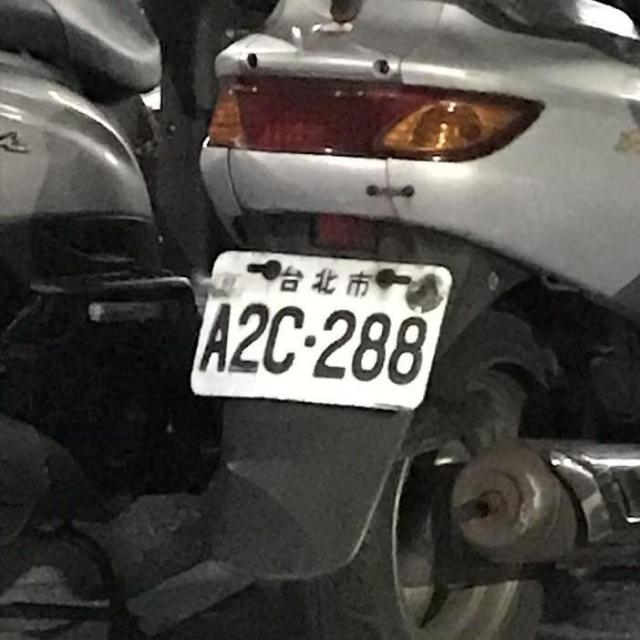W: (178, 226, 458, 428)
